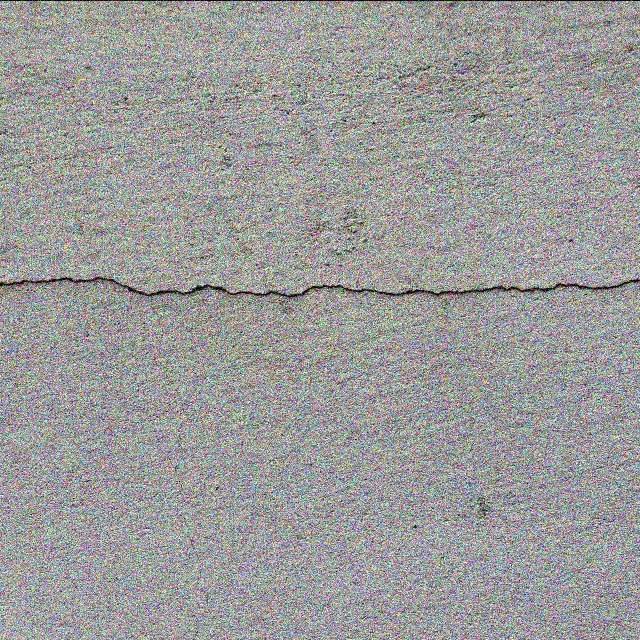SurfaceCrack: (1, 233, 639, 347)
